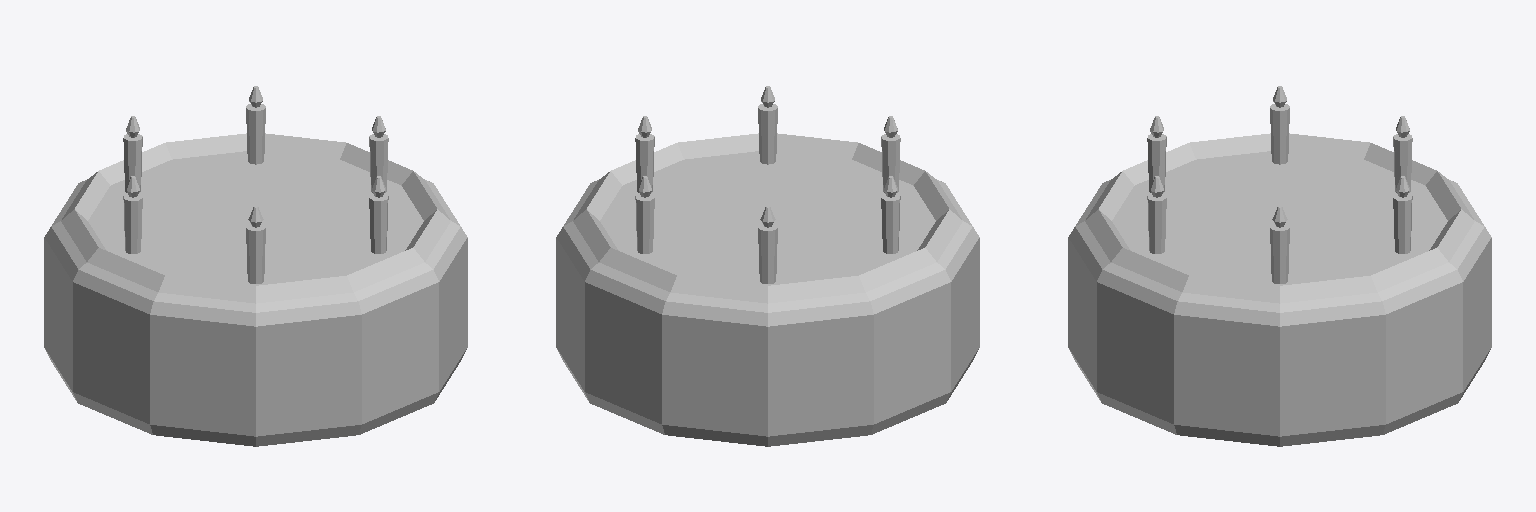
The model's file is cake-birthday.obj.
The picture shows the model from 3 angles: view 1: azimuth 30°, elevation 25°; view 2: azimuth 150°, elevation 25°; view 3: azimuth 270°, elevation 25°; orthographic projection.
Parts seen in each view (by area): view 1: slice; view 2: slice; view 3: slice.
Boxes of the visible parts, x1,y1,x2,y2 form: slice: [44, 86, 467, 446]; slice: [556, 86, 979, 446]; slice: [1068, 86, 1491, 446].
Size of the model in its own units: 0.6392 by 0.3638 by 0.6392.